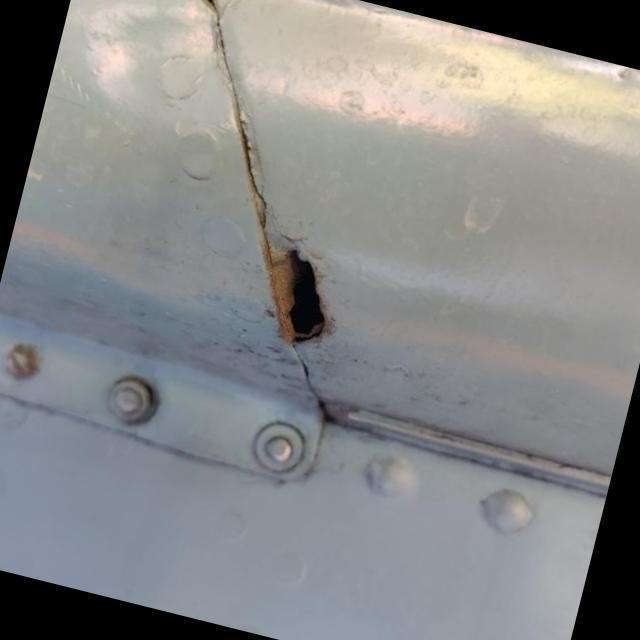Rupture: (232, 222, 368, 371)
